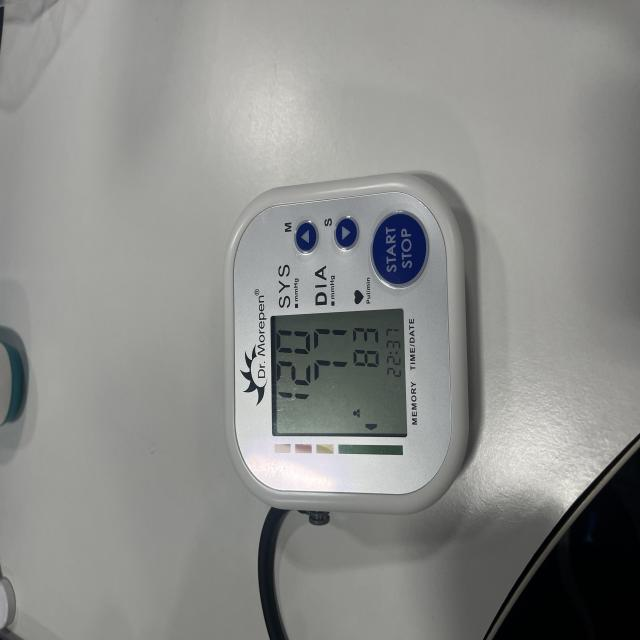bp: (219, 172, 482, 532)
